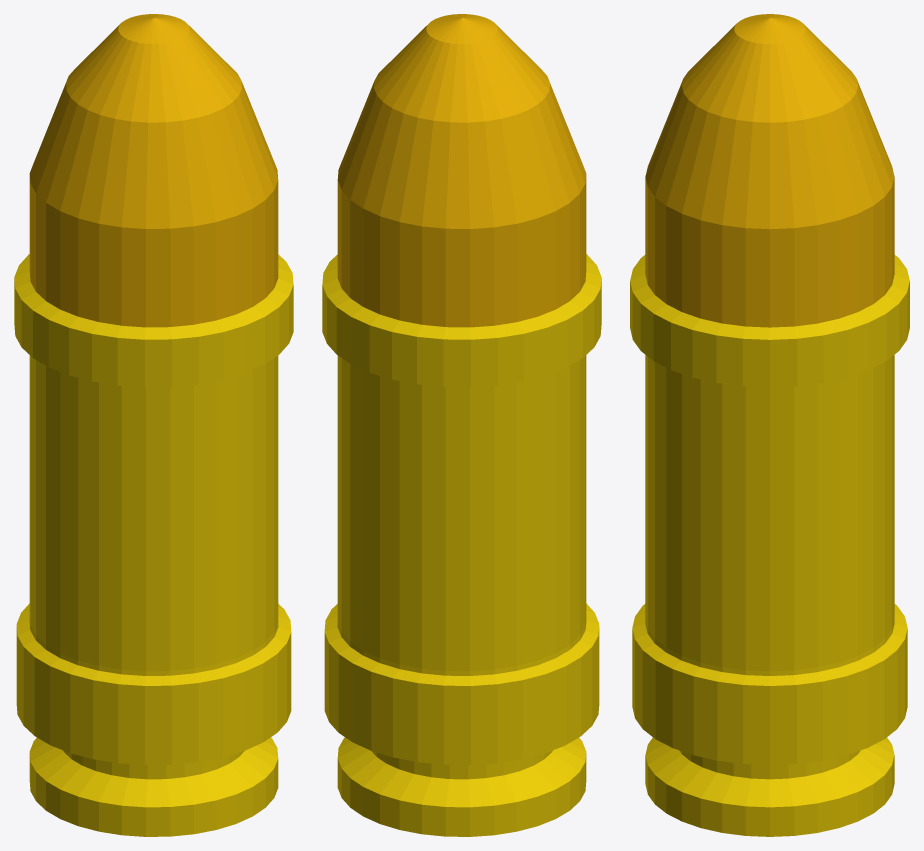
The model's file is Regular Bullet.fbx.
3 renders of one model, left to right at view 1: azimuth 30°, elevation 25°; view 2: azimuth 150°, elevation 25°; view 3: azimuth 270°, elevation 25°, orthographic.
Visible parts, largest first — view 1: Body; view 2: Body; view 3: Body.
Boxes of the visible parts, x1,y1,x2,y2 form: Body: [14, 14, 293, 836]; Body: [322, 14, 601, 836]; Body: [630, 14, 909, 836].
Bounding box in the file's own units: 112 × 340 × 112.
